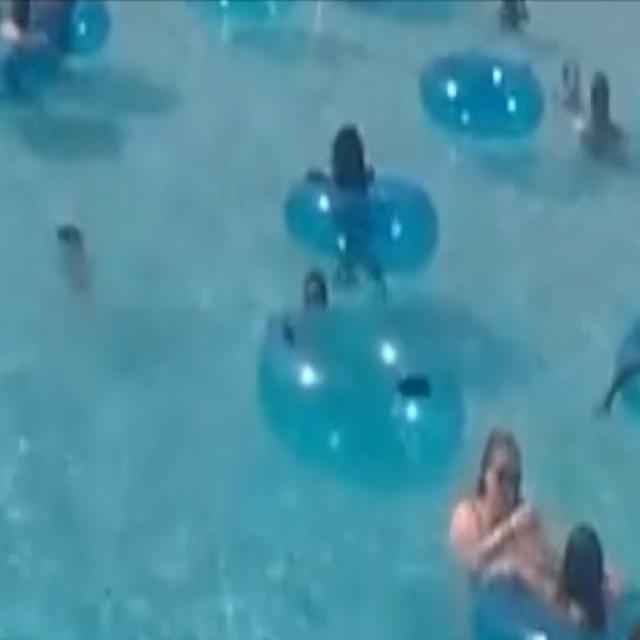Out of Water: (223, 245, 339, 332)
swimming: (438, 410, 617, 629), (540, 46, 627, 165)
